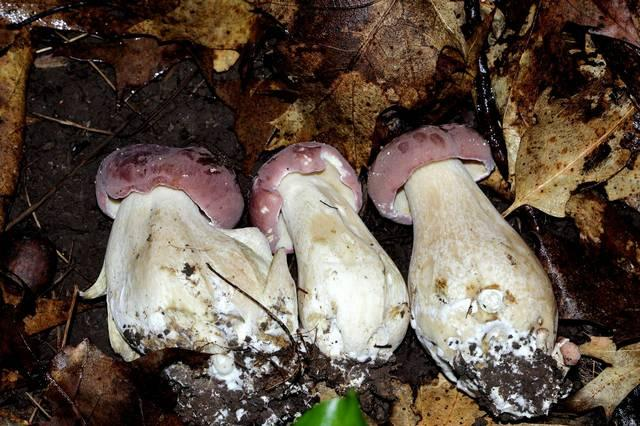poisonous_mushroom: (366, 121, 573, 420), (77, 141, 299, 372), (248, 140, 410, 366)
